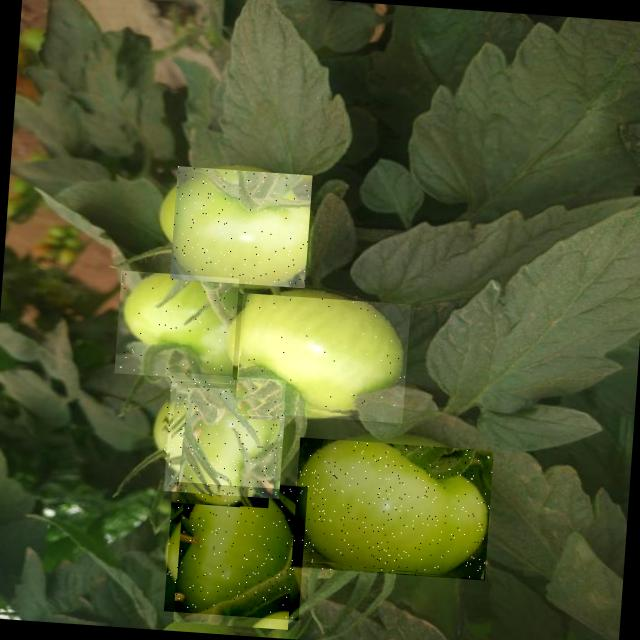Unripe Tomato: (291, 436, 494, 580), (234, 293, 410, 423), (164, 477, 308, 620), (170, 165, 312, 288), (160, 372, 286, 498), (114, 270, 239, 381)
